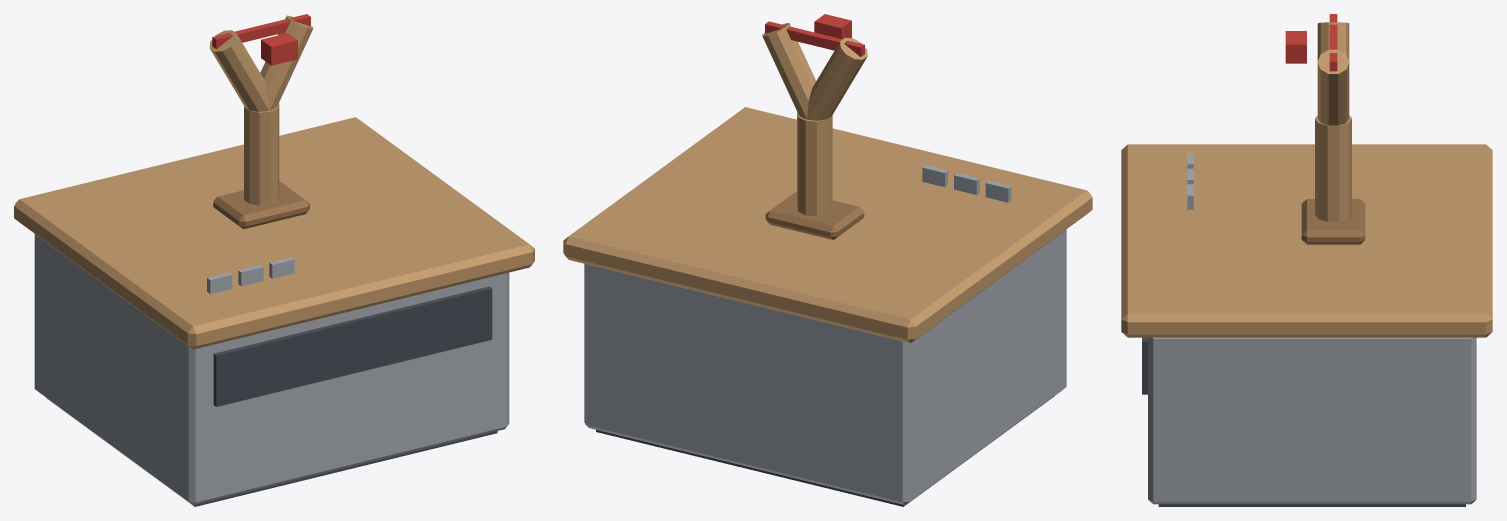
The model's file is artillery_1.glb.
The picture shows the model from 3 angles, left to right: view 1: azimuth 30°, elevation 25°; view 2: azimuth 150°, elevation 25°; view 3: azimuth 270°, elevation 25°; orthographic projection. The views are drawn at different scales.
Visible parts, largest first — view 1: artillery_1_mesh_Desk, artillery_1_mesh; view 2: artillery_1_mesh_Desk, artillery_1_mesh; view 3: artillery_1_mesh_Desk, artillery_1_mesh.
Boxes of the visible parts, <box> form: artillery_1_mesh_Desk: <box>14,117,534,506</box>; artillery_1_mesh: <box>207,14,313,293</box>; artillery_1_mesh_Desk: <box>563,107,1092,506</box>; artillery_1_mesh: <box>762,14,1011,239</box>; artillery_1_mesh_Desk: <box>1121,144,1492,506</box>; artillery_1_mesh: <box>1187,14,1365,244</box>.
Bounding box in the file's own units: 0.78 × 0.8216 × 0.7.
